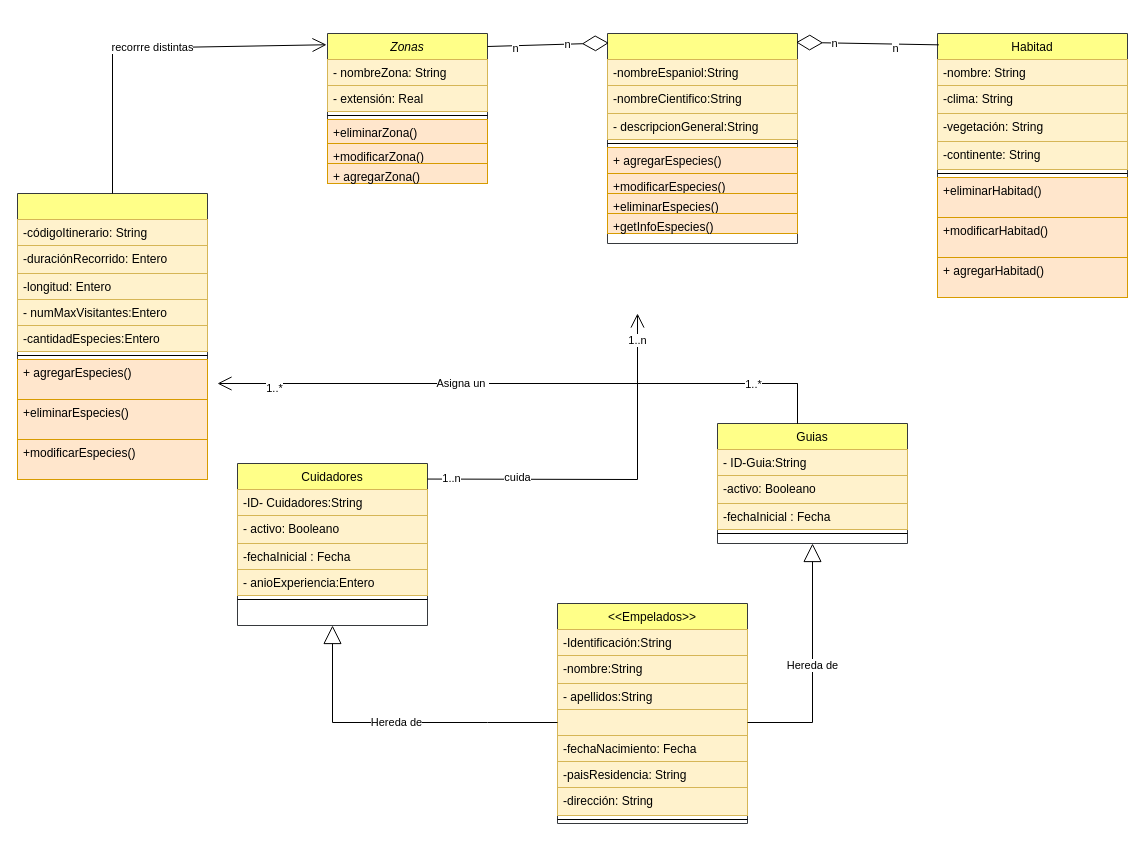
Image size: 1145x842. Some labels were removed from this diagram. Here are the shapes that lost their labels. From the top down, the box of each, then its label:
(606, 32, 798, 244): Especies-Animales
(16, 192, 208, 480): Itierario
(556, 708, 748, 736): - telefóno:entero
